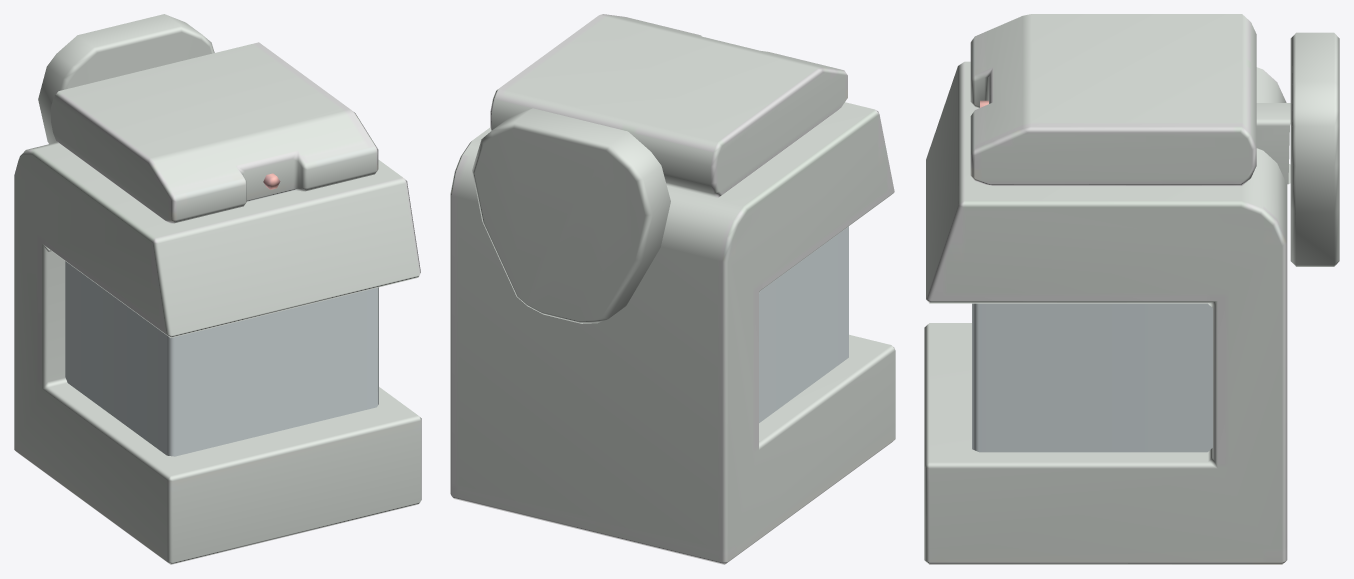
3 views of the same model, side by side, from view 1: azimuth 30°, elevation 25°; view 2: azimuth 150°, elevation 25°; view 3: azimuth 270°, elevation 25° (orthographic). The views are drawn at different scales.
Visible parts, largest first — view 1: potion_max_base1, glass1; view 2: potion_max_base1, glass1; view 3: potion_max_base1, glass1.
Part boxes in pixels (x1,y1,x2,y2): potion_max_base1: [14, 14, 421, 564]; glass1: [65, 261, 378, 456]; potion_max_base1: [450, 14, 895, 564]; glass1: [759, 226, 848, 422]; potion_max_base1: [924, 14, 1339, 564]; glass1: [972, 303, 1212, 452].
Size of the model in its own units: 0.9793 by 1.4 by 1.2.
